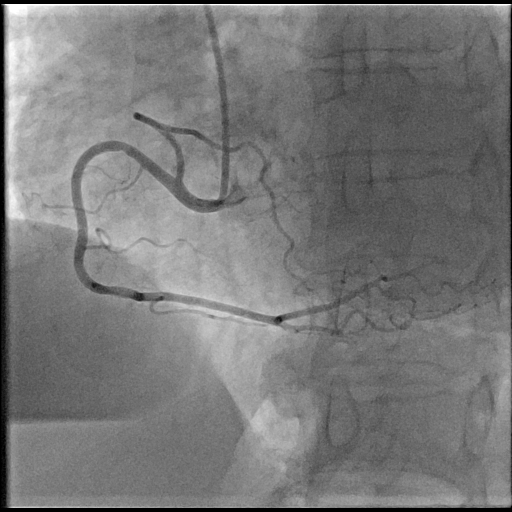RCA: (40, 112, 420, 334)
catherter: (204, 5, 230, 207)
